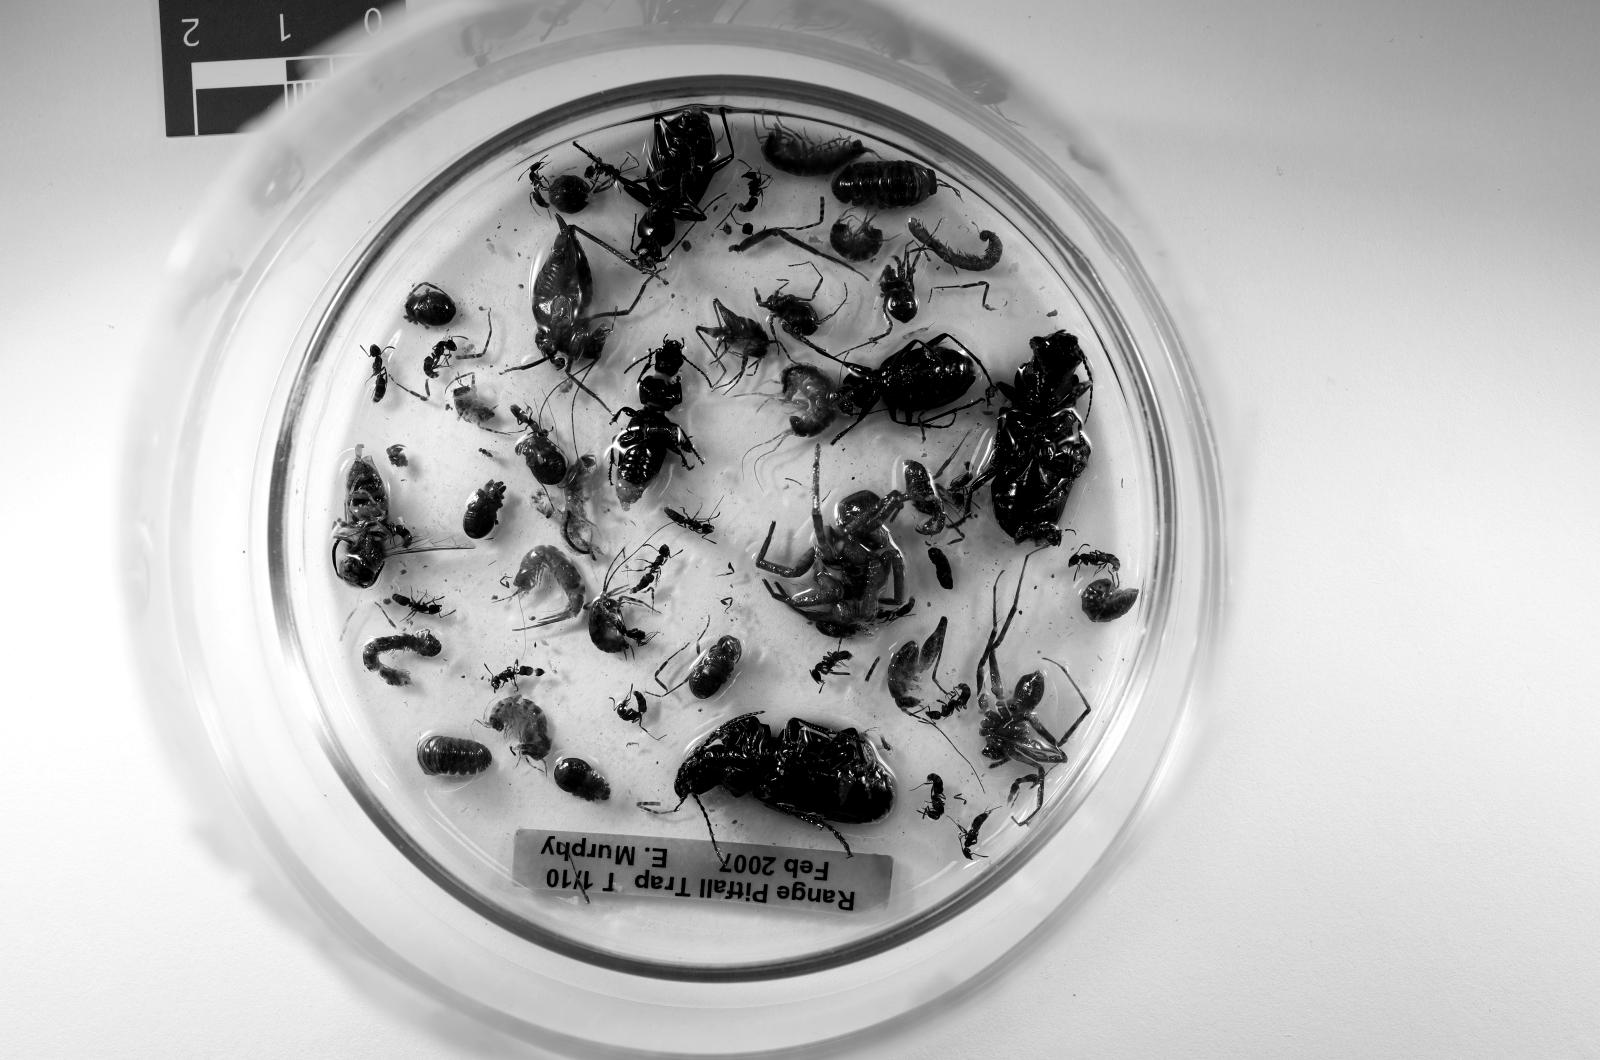amphipoda: (757, 121, 872, 177), (478, 696, 553, 770), (782, 363, 837, 438), (563, 453, 600, 558), (831, 218, 885, 260)
araneae: (757, 451, 913, 640), (974, 575, 1090, 826)
archaeognatha: (512, 547, 584, 636)
carabidae: (675, 715, 894, 854), (972, 329, 1094, 547), (613, 109, 734, 260), (816, 332, 978, 428), (609, 338, 697, 509)
diplopoda: (909, 218, 1003, 273), (363, 631, 441, 686)
diptera: (872, 730, 894, 751), (478, 447, 500, 463)
formicidae: (631, 543, 672, 593), (809, 649, 853, 690), (487, 661, 544, 692), (925, 684, 972, 720), (662, 506, 715, 537), (959, 810, 991, 860), (738, 170, 772, 214), (384, 593, 443, 618), (1069, 550, 1122, 577), (616, 690, 650, 730), (422, 338, 456, 379), (369, 344, 390, 403), (584, 159, 618, 193), (510, 403, 546, 435), (922, 774, 947, 820), (529, 161, 550, 208)
isopoda: (831, 161, 938, 208), (415, 736, 491, 776), (1081, 577, 1138, 621), (546, 174, 590, 214)
opiliones: (510, 407, 569, 485), (903, 459, 947, 537), (687, 636, 740, 699), (879, 252, 919, 323), (462, 481, 506, 541), (553, 757, 609, 801), (407, 283, 456, 327)
orthoptera: (531, 214, 660, 403), (697, 298, 772, 386), (887, 618, 947, 711), (584, 577, 628, 652), (453, 373, 494, 428)
vespidae: (331, 444, 472, 587)
